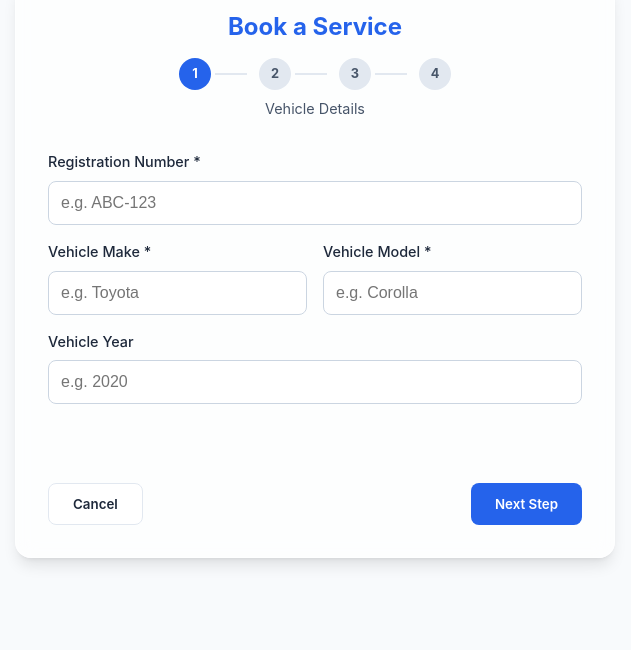
BookingForm › should validate step 1 and show error if fields are empty
This screenshot has width=631, height=650.
Click the button "Next Step" at (526, 504), box x1=471 y1=483 x2=582 y2=525
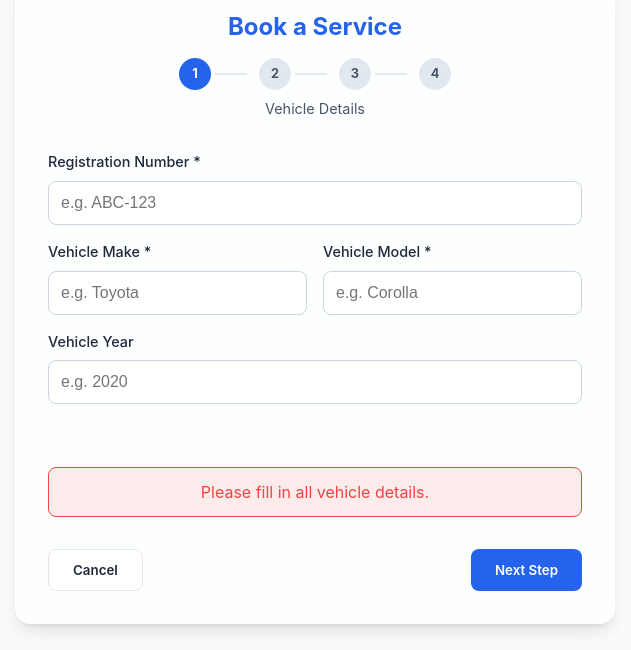
Result: the text "Please fill in all vehicle details." is shown at x1=48 y1=467 x2=582 y2=517
